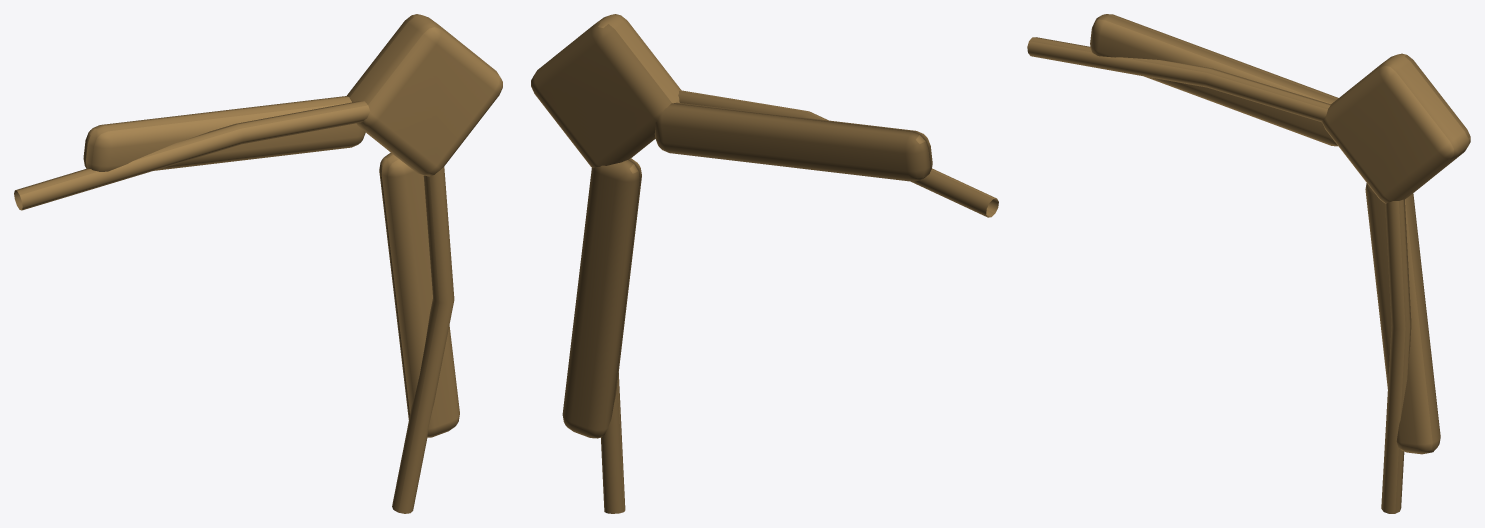
Rendered from gallery-frame-corner.glb.
3 views of the same model, side by side, from view 1: azimuth 30°, elevation 25°; view 2: azimuth 150°, elevation 25°; view 3: azimuth 330°, elevation 25° (orthographic). The views are drawn at different scales.
Parts seen in each view (by area): view 1: gallery-frame-corner — Worn champagne brass; view 2: gallery-frame-corner — Worn champagne brass; view 3: gallery-frame-corner — Worn champagne brass.
Boxes of the visible parts, x1,y1,x2,y2 form: gallery-frame-corner — Worn champagne brass: [14, 14, 502, 513]; gallery-frame-corner — Worn champagne brass: [531, 14, 998, 513]; gallery-frame-corner — Worn champagne brass: [1027, 14, 1470, 513].
Bounding box in the file's own units: 0.2527 × 0.2527 × 0.0255.
